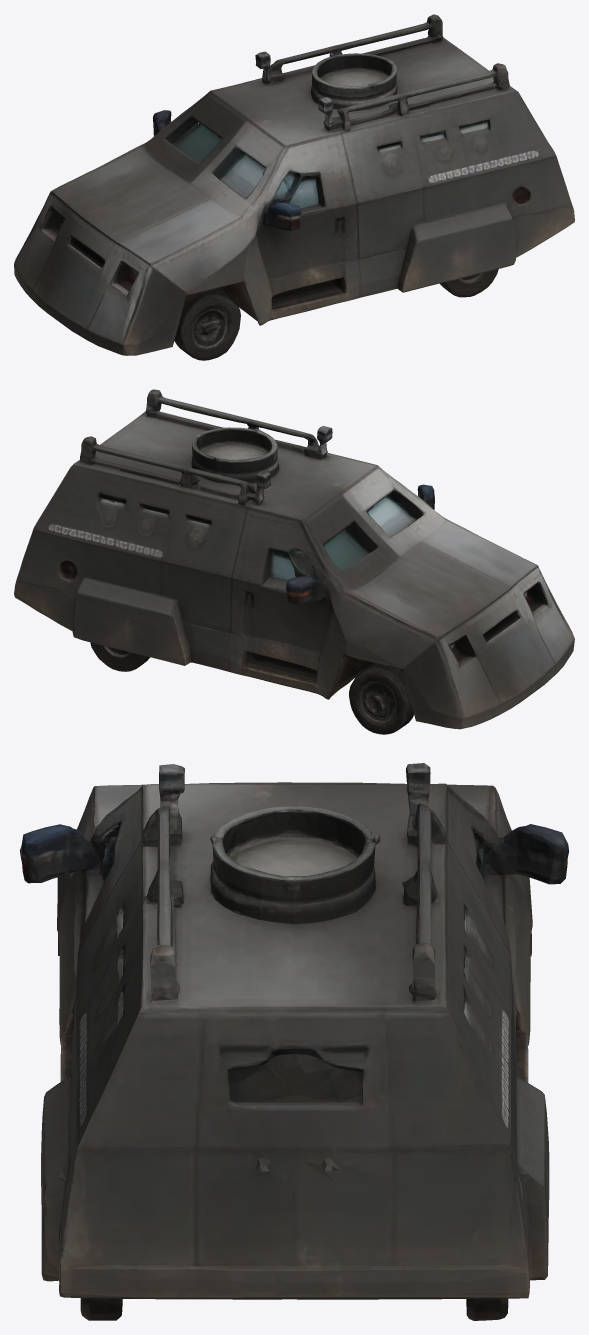
3 renders of one model, top to bottom at view 1: azimuth 30°, elevation 25°; view 2: azimuth 150°, elevation 25°; view 3: azimuth 270°, elevation 25°, orthographic. The views are drawn at different scales.
Visible parts, largest first — view 1: geometry_0; view 2: geometry_0; view 3: geometry_0.
Boxes of the visible parts, left/top/right/bottom form: geometry_0: left=14, top=14, right=574, bottom=360; geometry_0: left=14, top=389, right=574, bottom=734; geometry_0: left=20, top=763, right=568, bottom=1320.
Size of the model in its own units: 1 by 0.4454 by 0.5185.
Materials: 1 (1 with a texture image).
